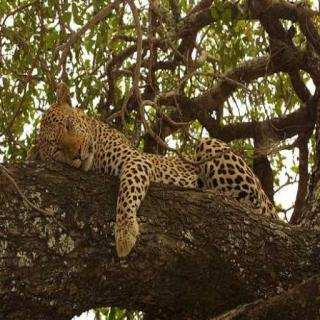-: (32, 90, 192, 258), (184, 121, 286, 226)
